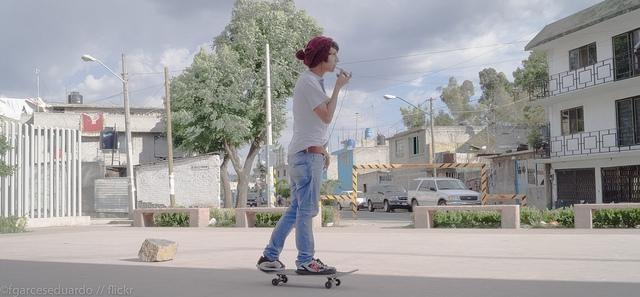car: (407, 177, 482, 212), (366, 184, 412, 214), (337, 191, 368, 210)
